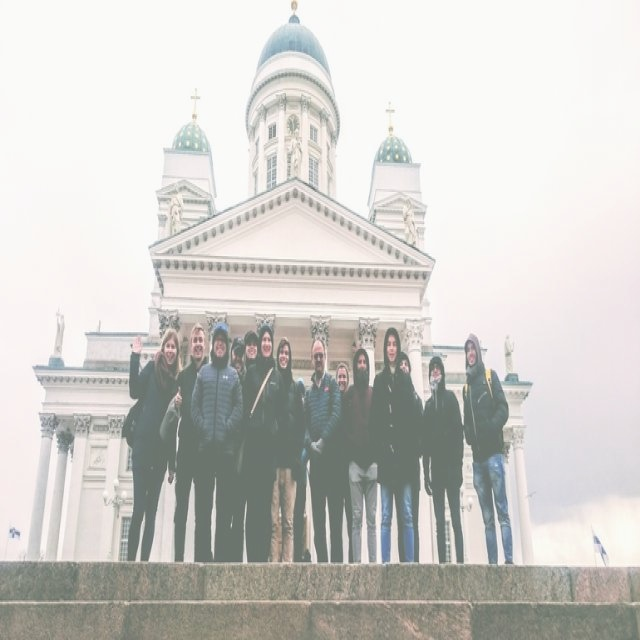pessoa: (118, 321, 187, 573), (190, 318, 244, 564), (460, 331, 516, 567), (366, 322, 416, 574), (158, 320, 208, 566), (240, 322, 288, 566), (300, 334, 346, 564), (422, 354, 466, 566), (268, 337, 306, 566), (344, 346, 379, 567), (397, 348, 425, 566), (333, 362, 355, 568), (292, 378, 312, 562), (162, 172, 191, 244), (498, 318, 518, 388), (397, 192, 420, 250), (286, 126, 307, 178), (50, 305, 66, 369), (228, 334, 247, 387), (242, 328, 262, 368)
